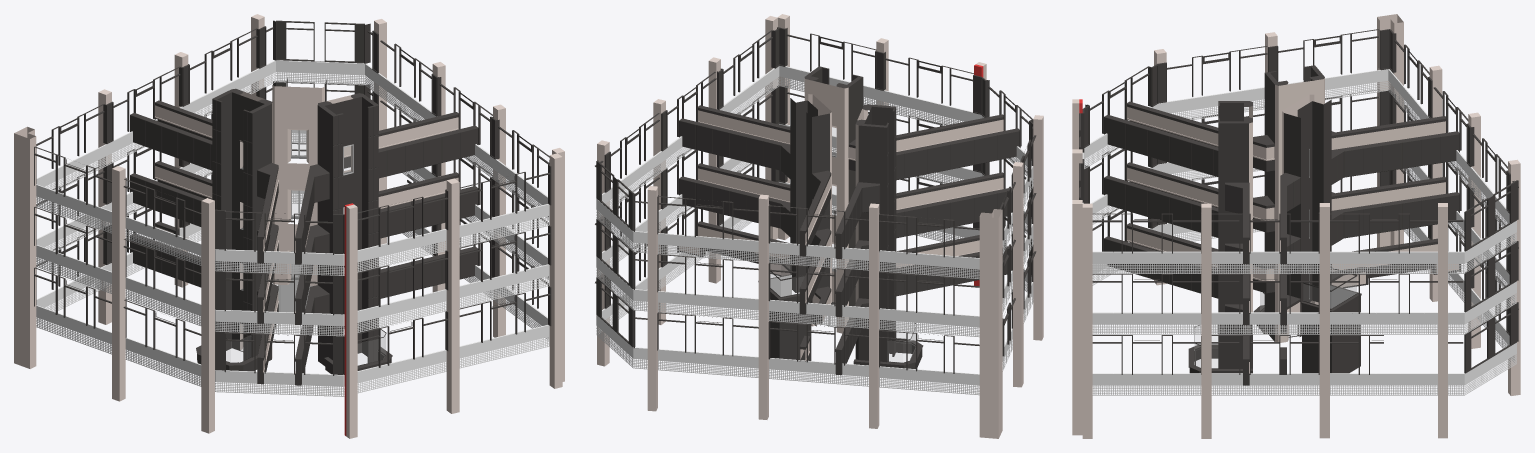
File: Atrium.glb
3 views of the same model, side by side, from view 1: azimuth 30°, elevation 25°; view 2: azimuth 150°, elevation 25°; view 3: azimuth 270°, elevation 25° (orthographic). The views are drawn at different scales.
Visible parts, largest first — view 1: Atrium; view 2: Atrium; view 3: Atrium.
Part boxes in pixels (box(x1,y1,x2,y2)): Atrium: box(14, 14, 564, 438); Atrium: box(595, 14, 1043, 438); Atrium: box(1072, 14, 1520, 438).
Size of the model in its own units: 28.23 by 17.5 by 27.62.
10 materials, 2 textured.
